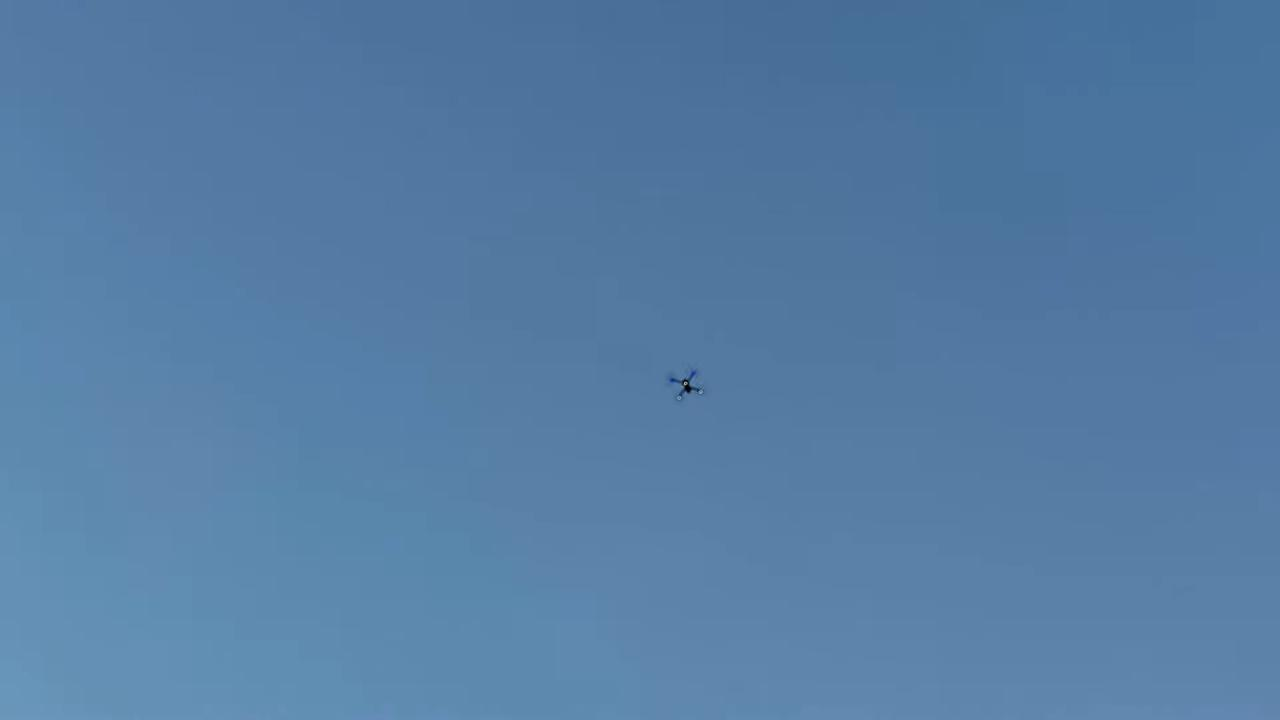Drone: (664, 358, 710, 408)
